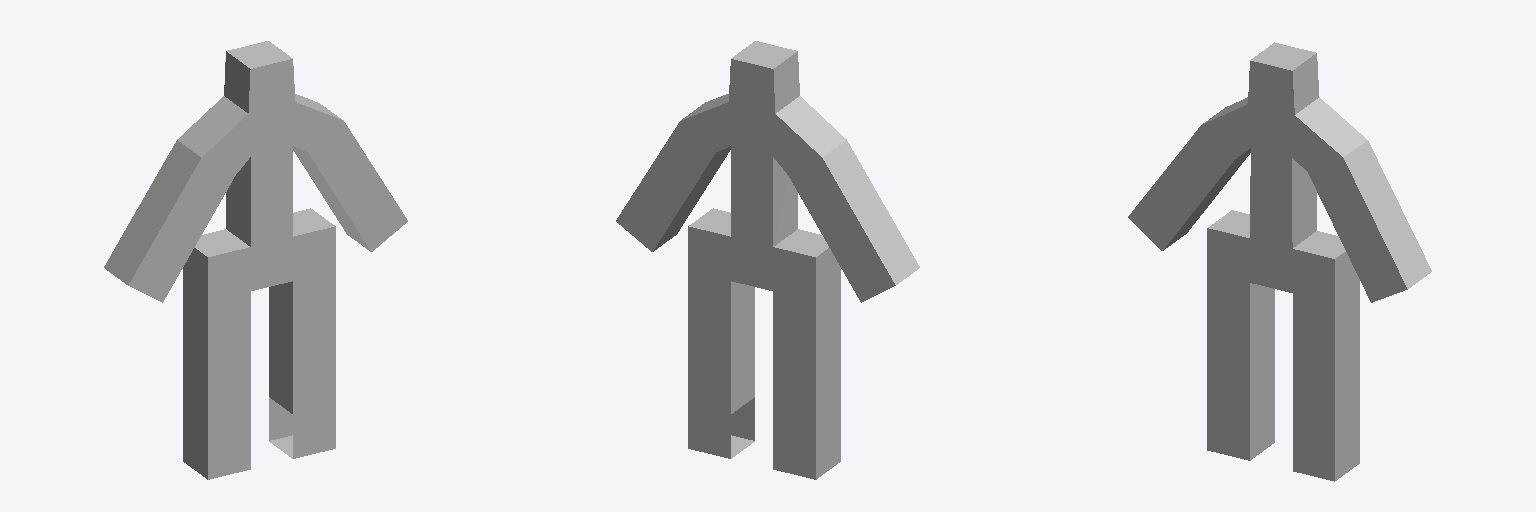
Rendered from cuboid_000001.obj.
3 views of the same model, side by side, from view 1: azimuth 30°, elevation 25°; view 2: azimuth 150°, elevation 25°; view 3: azimuth 330°, elevation 25° (orthographic).
Visible parts, largest first — view 1: Cube; view 2: Cube; view 3: Cube.
Boxes of the visible parts, box(x1,y1,x2,y2) form: Cube: box(104, 41, 407, 479); Cube: box(616, 41, 919, 479); Cube: box(1128, 42, 1431, 481).
Bounding box in the file's own units: 3.3 × 4.5 × 0.5.